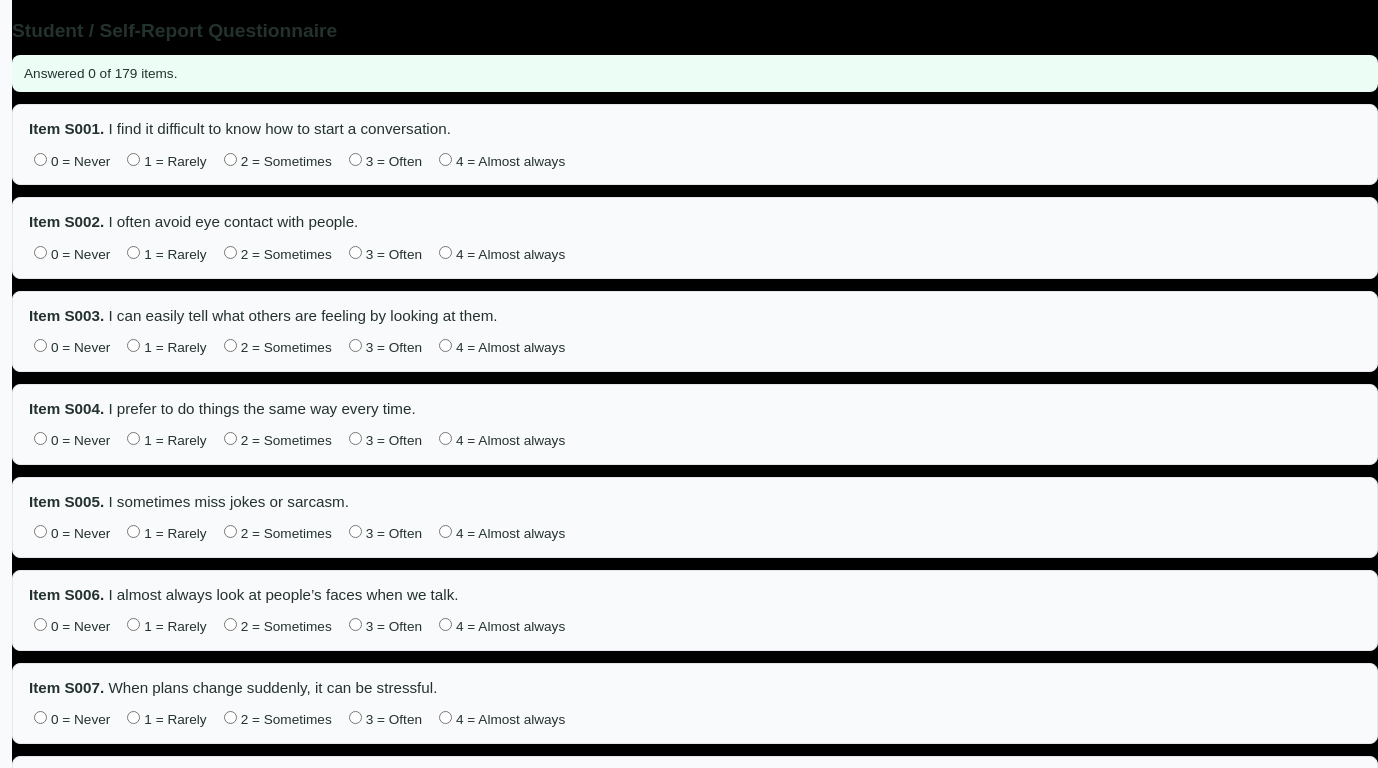
ASQ student questionnaire actually renders all 179 prompts and answer choices
The image size is (1378, 768).
Check: the text "Answered 0 of 179 items." is shown, box [12,55,1377,92]
Click the radio button labelled "3 = Often" below "S001": (355, 159) [349,153,362,166]
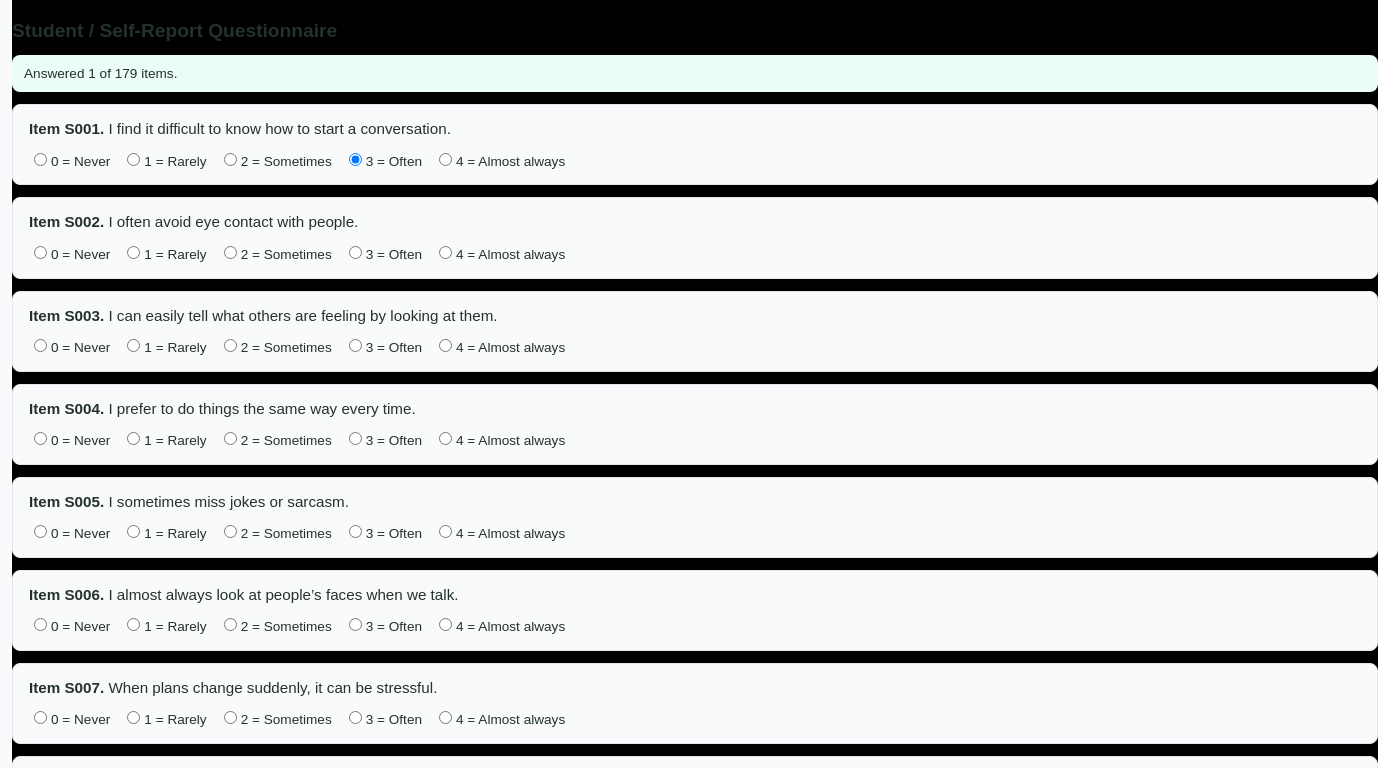
Check: the text "Answered 1 of 179 items." is shown, box [12,55,1377,92]
